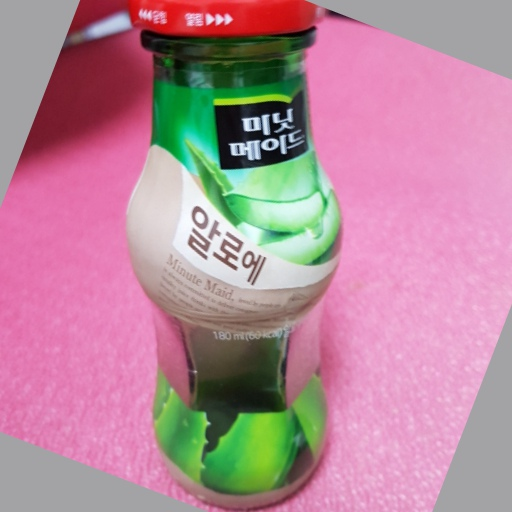Glass_4: (119, 1, 345, 506)
